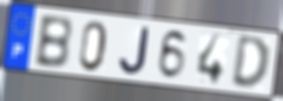0: (78, 20, 109, 73)
4: (195, 32, 227, 87)
6: (156, 29, 189, 81)
B: (32, 15, 74, 72)
D: (229, 35, 272, 92)
J: (117, 25, 152, 77)
